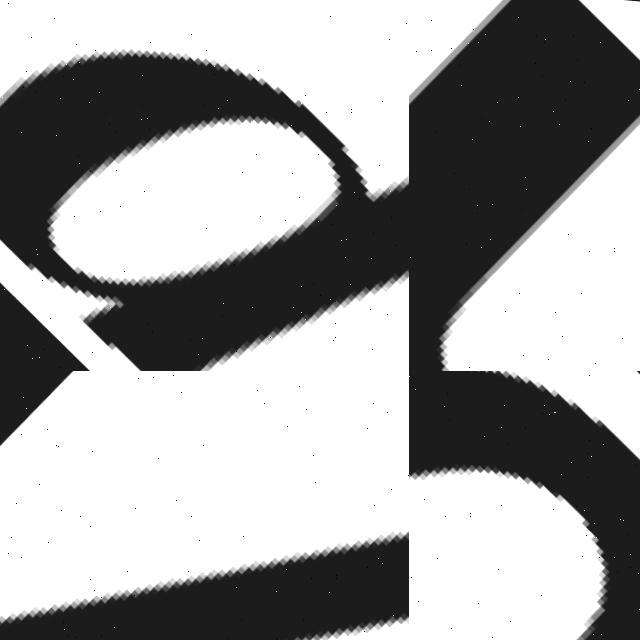N: (409, 0, 640, 371)
O: (409, 371, 640, 640)
P: (0, 44, 409, 371)
V: (0, 371, 409, 640)
